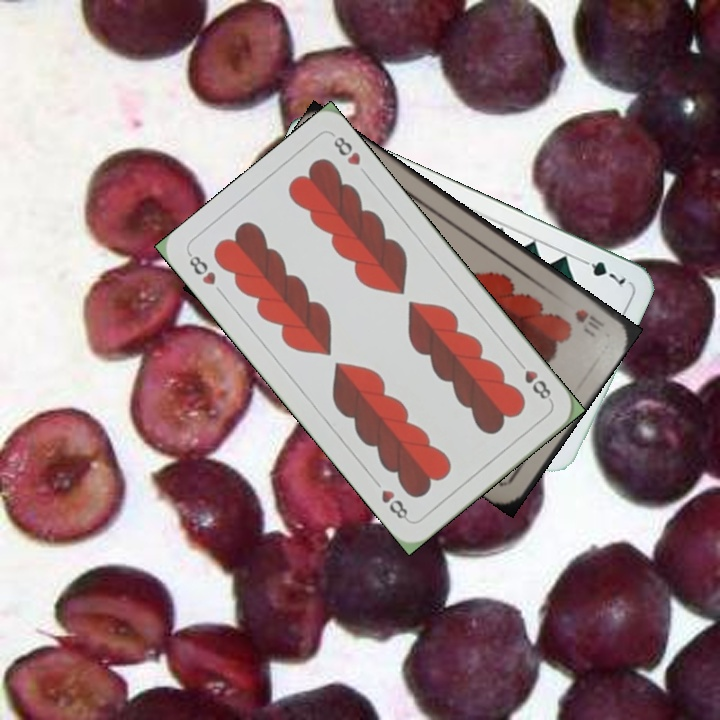G7: (575, 254, 629, 291)
H10: (570, 304, 607, 334)
H8: (512, 355, 555, 405), (184, 249, 219, 288)
